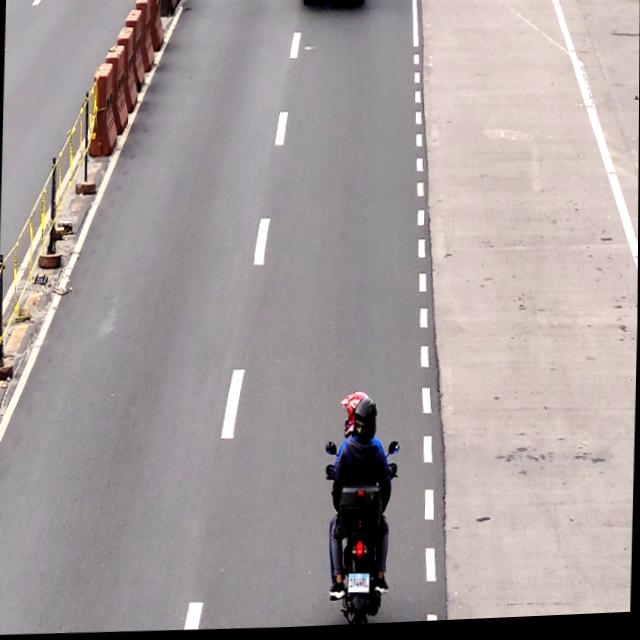License-Plate: (348, 574, 370, 598)
Motorcycle: (320, 385, 395, 629)
